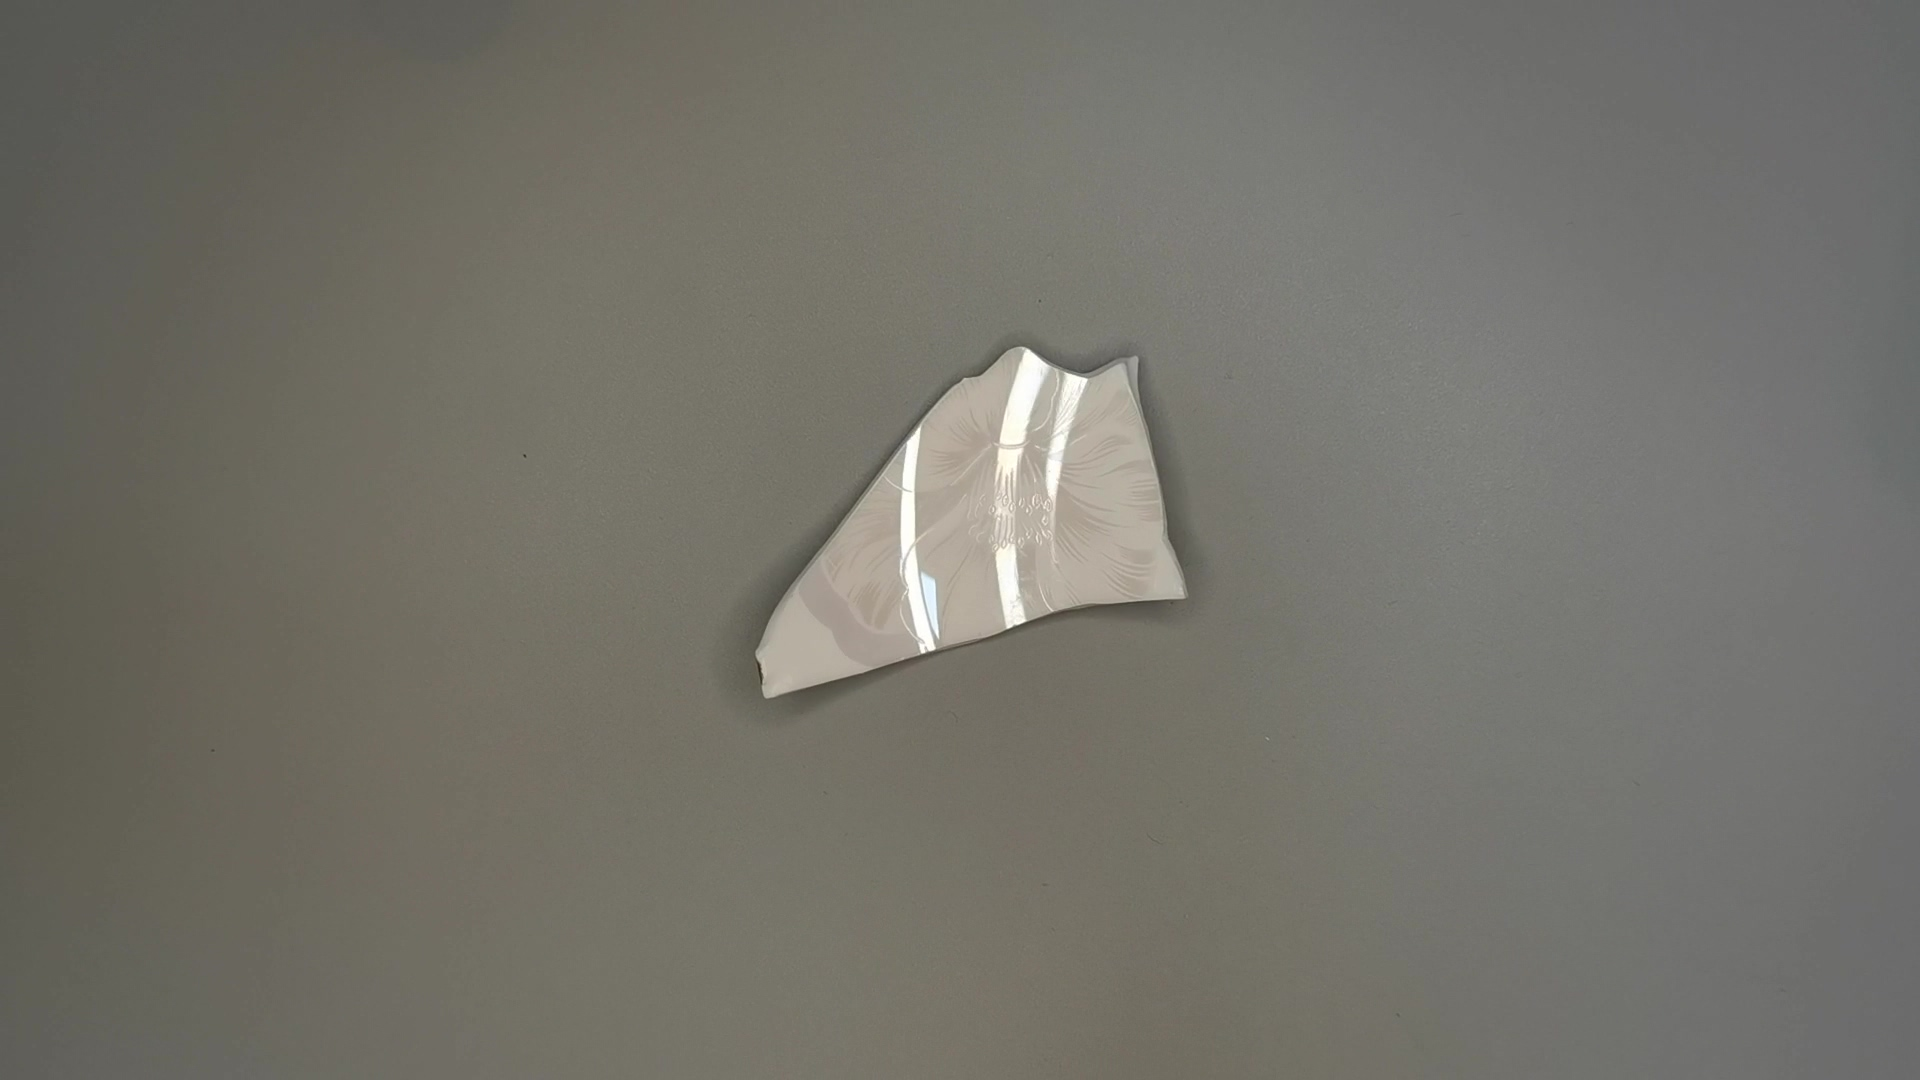ceramic: (746, 345, 1195, 709)
